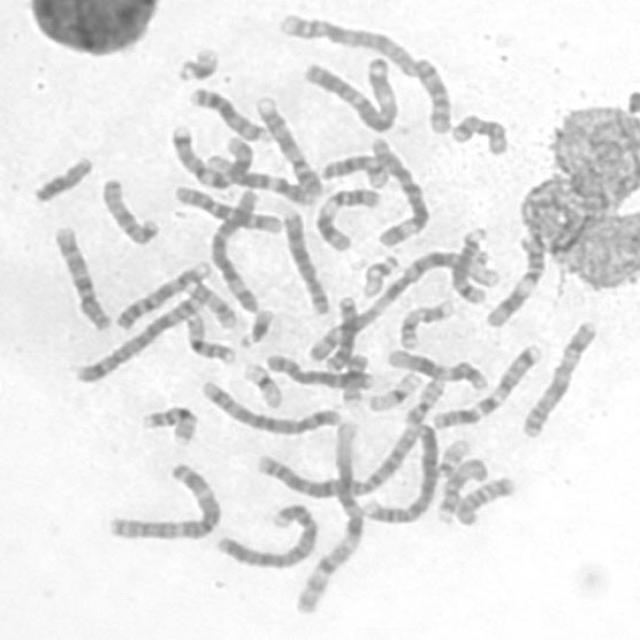A1: (305, 242, 501, 369), (287, 414, 367, 618)
A2: (250, 367, 445, 501), (275, 9, 456, 134)
A3: (102, 457, 224, 541), (297, 50, 403, 134)
B4: (356, 418, 442, 526), (210, 497, 321, 570)
B5: (70, 283, 210, 386), (195, 373, 343, 438)
C10: (47, 220, 114, 334), (169, 180, 286, 236)
C11: (479, 227, 548, 330), (308, 182, 384, 253)
C12: (202, 147, 321, 205), (381, 343, 490, 392)
C6: (364, 130, 433, 251), (205, 184, 263, 315)
C7: (426, 338, 543, 430), (166, 120, 256, 190)
C8: (272, 204, 332, 316), (260, 347, 374, 394)
C9: (250, 92, 323, 201), (112, 257, 214, 331)
D13: (184, 82, 273, 144), (320, 290, 360, 374)
D14: (445, 220, 494, 306), (314, 147, 393, 190)
D15: (96, 171, 162, 247), (430, 452, 490, 526)
E16: (180, 304, 238, 366), (136, 400, 199, 448)
E17: (394, 294, 457, 351), (180, 276, 240, 331)
E18: (448, 470, 518, 527), (446, 108, 511, 158)
F19: (360, 366, 425, 413), (236, 355, 284, 410)
F20: (336, 348, 371, 406)
G21: (172, 41, 222, 84), (233, 302, 276, 349)
G22: (357, 248, 403, 298), (432, 432, 473, 480)
X: (516, 315, 600, 439)
Y: (26, 150, 94, 206)
